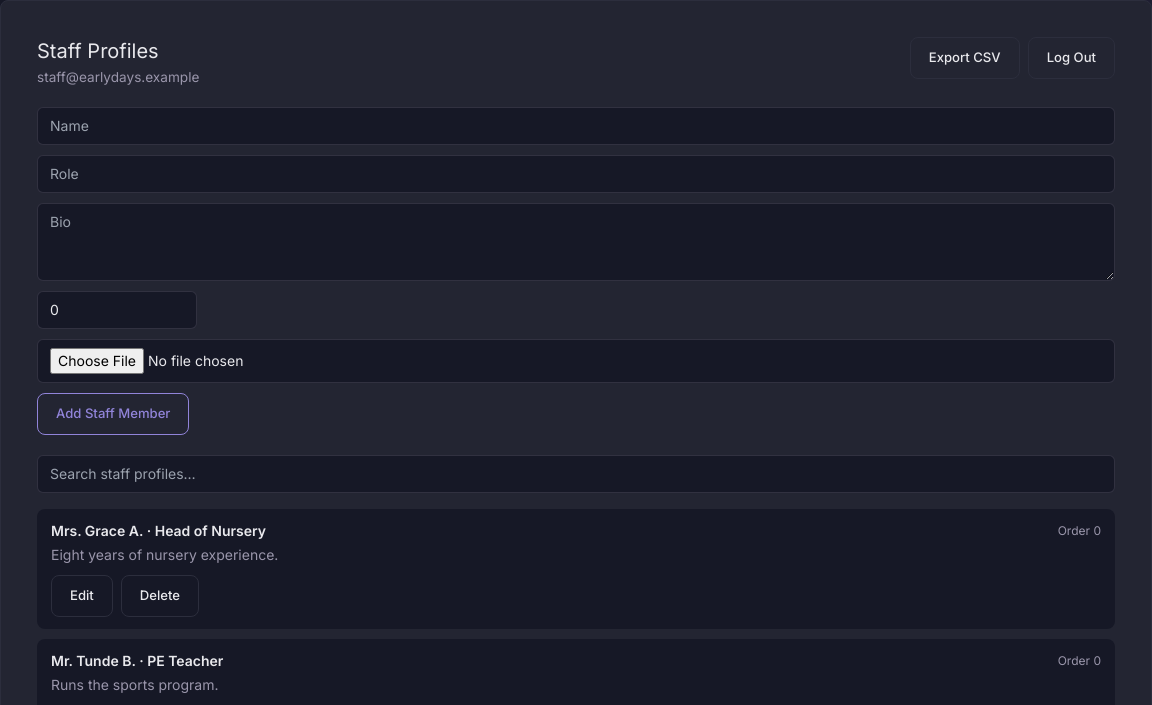
it: AdminStaffPanel › filters the list by search query
Expected: the text "Mrs. Grace A. · Head of Nursery" is shown, [51,521,266,541]
Expected: the text "Mr. Tunde B. · PE Teacher" is shown, [51,651,223,671]
Type "sports" into the field labelled "Search staff profiles" at (576, 474), box [37,455,1115,493]
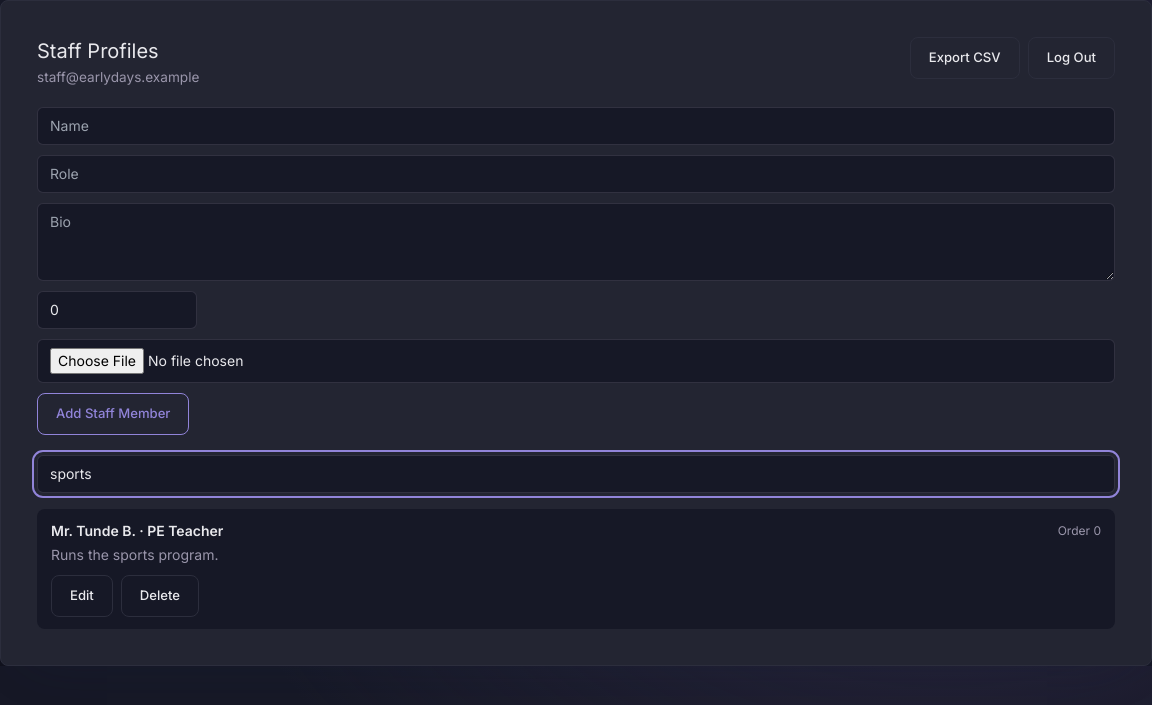
Expected: the text "Mr. Tunde B. · PE Teacher" is shown, [51,521,223,541]
Expected: the text "Mrs. Grace A. · Head of Nursery" is gone
